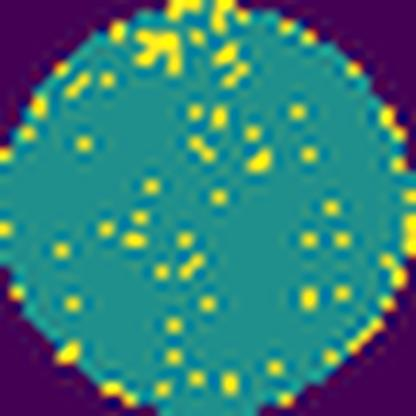Loc: (133, 27, 185, 77)
